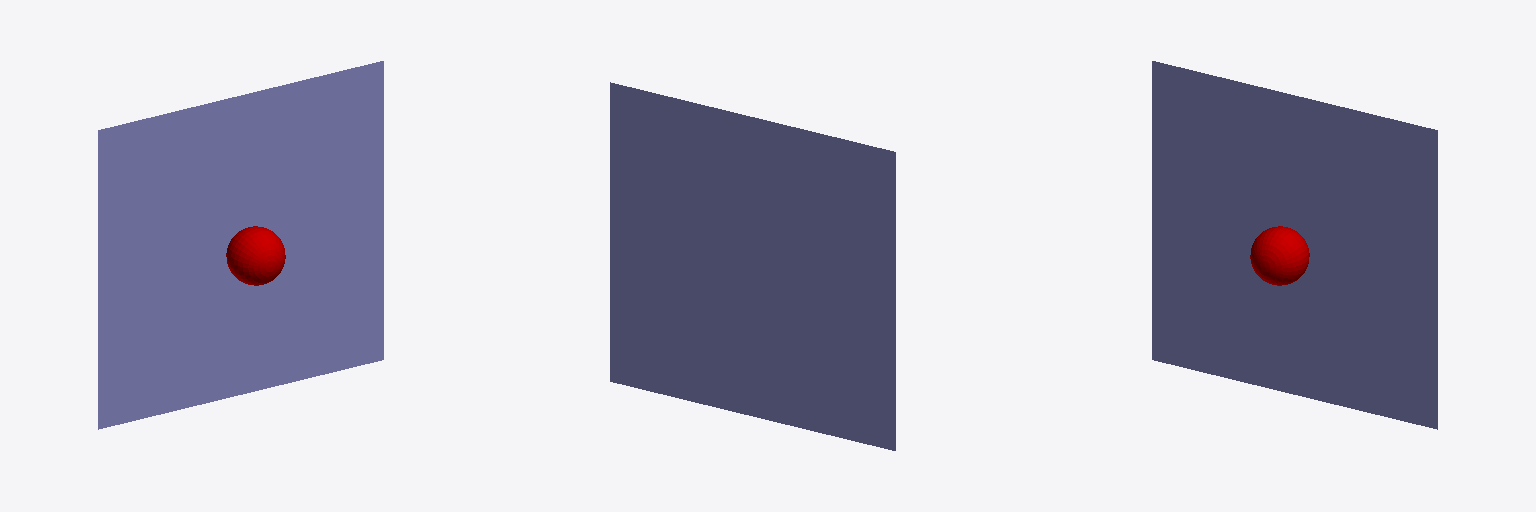
Rendered from bolaPrueba.obj.
3 views of the same model, side by side, from view 1: azimuth 30°, elevation 25°; view 2: azimuth 150°, elevation 25°; view 3: azimuth 330°, elevation 25° (orthographic).
Visible parts, largest first — view 1: Plane01, Sphere01; view 2: Plane01; view 3: Plane01, Sphere01.
Part boxes in pixels (bbox=[...]): Plane01: bbox=[98, 61, 383, 429]; Sphere01: bbox=[226, 226, 285, 285]; Plane01: bbox=[610, 82, 895, 450]; Plane01: bbox=[1152, 61, 1437, 429]; Sphere01: bbox=[1250, 226, 1309, 285].
Bounding box in the file's own units: 100 × 100 × 18.